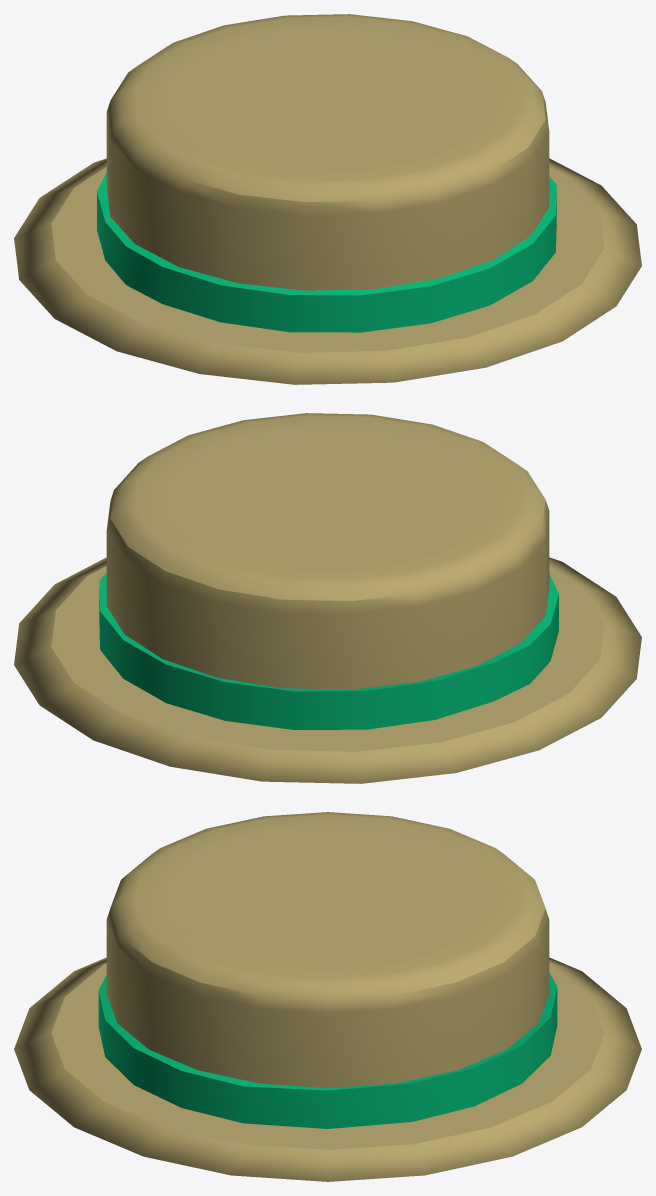
Rendered from flathat.fbx.
3 views of the same model, one above another, from view 1: azimuth 30°, elevation 25°; view 2: azimuth 150°, elevation 25°; view 3: azimuth 270°, elevation 25° (orthographic).
Parts seen in each view (by area): view 1: pCylinder1; view 2: pCylinder1; view 3: pCylinder1.
Part boxes in pixels (x1,y1,x2,y2): pCylinder1: (14, 14, 641, 384); pCylinder1: (14, 413, 641, 783); pCylinder1: (14, 812, 641, 1181).
Size of the model in its own units: 1.97 by 0.5817 by 1.97.
